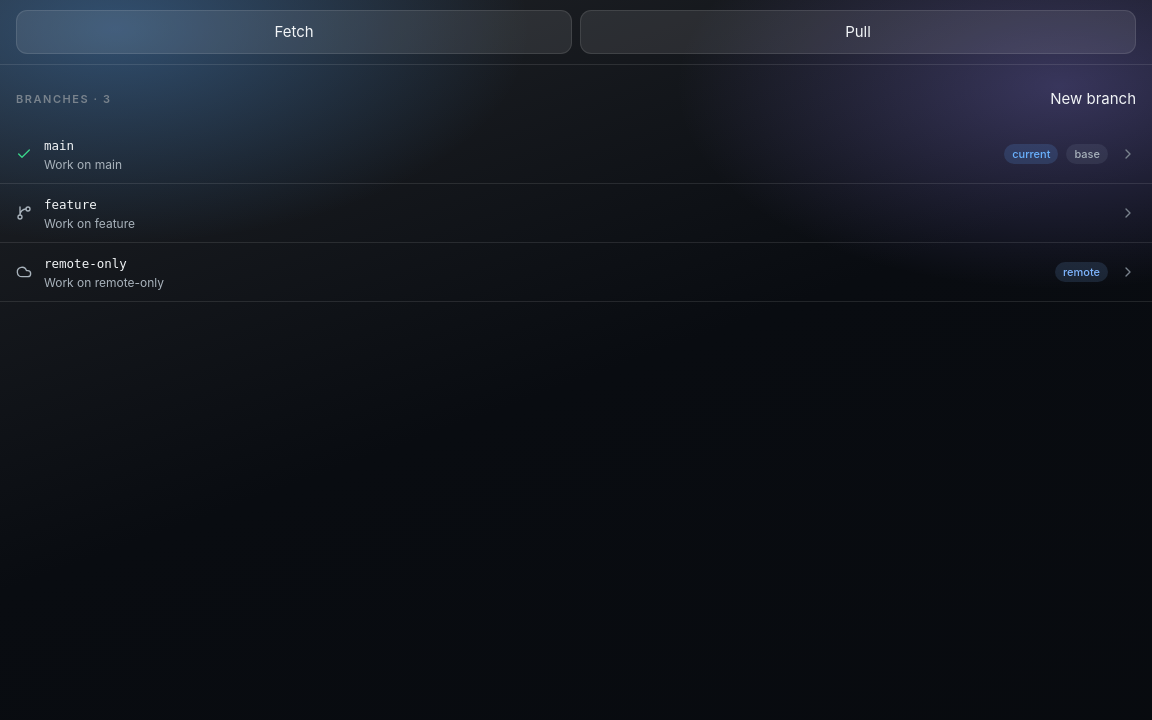
Test case: mobile project branches › deletes a branch after showing linked run impact
What coordinates should you click on to do the following:
click the button "feature Work on feature"
I would click on:
 (70, 204)
Its box is [0,184,1151,243].
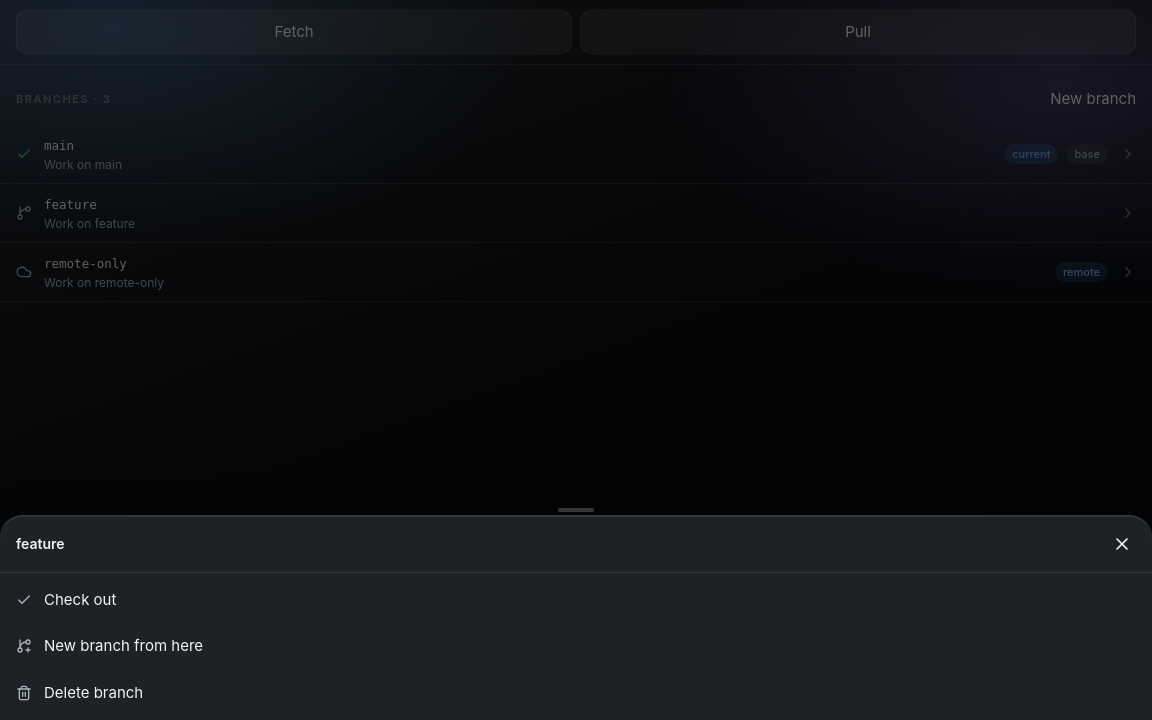
Expected: the button "Delete branch" is shown
What coordinates should you click on to do the following:
click the button "Delete branch"
I would click on:
 (94, 692)
Its box is [0,670,1151,716].
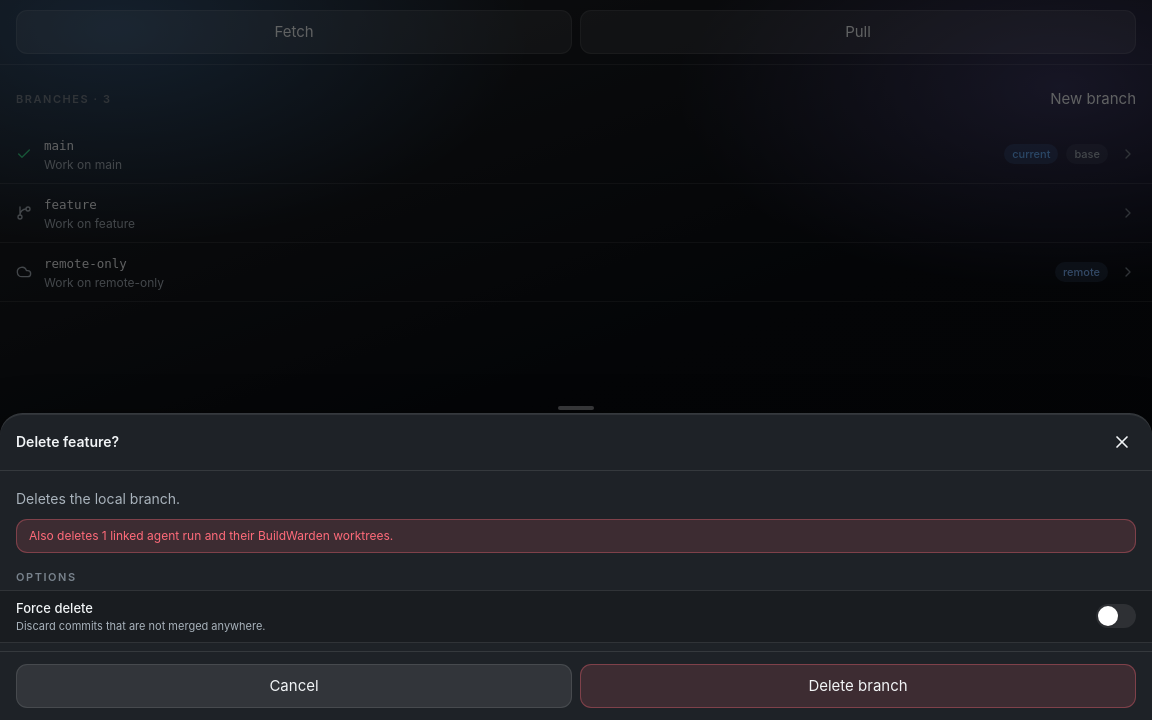
Expected: the button "Delete branch" is shown
Expected: the text "Also deletes 1 linked agent run" is shown, [16,519,1136,553]
What coordinates should you click on to do the following:
click the button "Delete branch"
I would click on:
 (858, 686)
Its box is [580,664,1136,708].
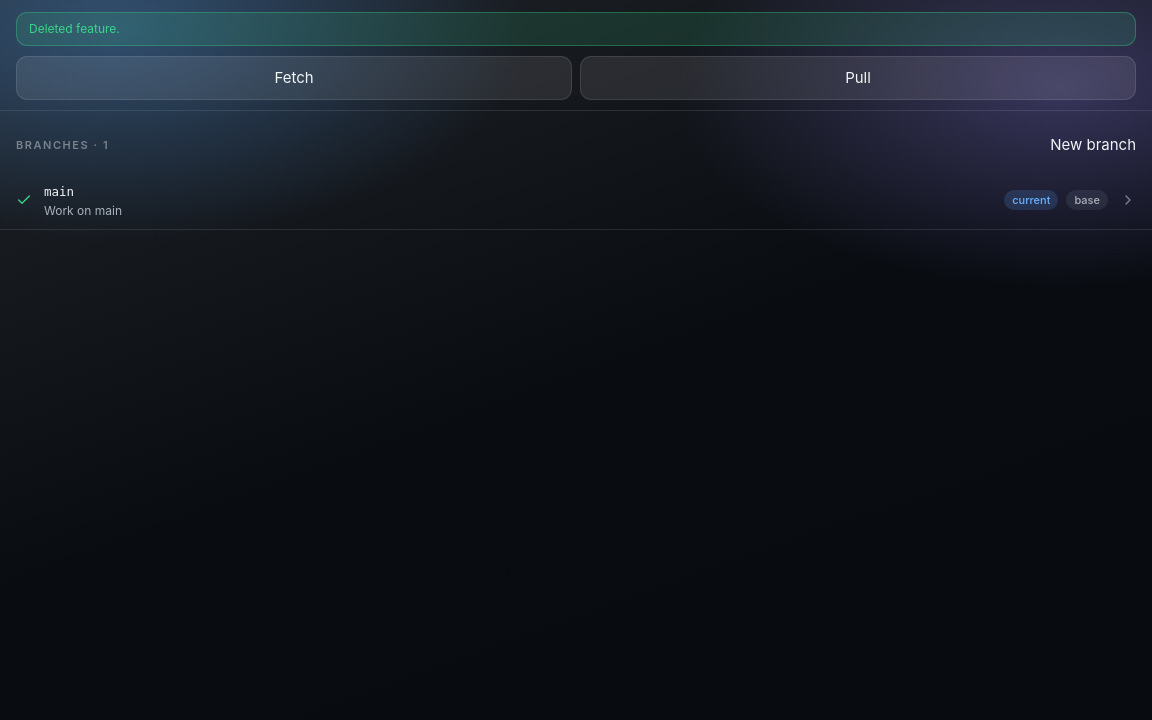
Expected: the text "Deleted feature." is shown, [16,12,1136,46]
Expected: the text "Work on feature" is gone
